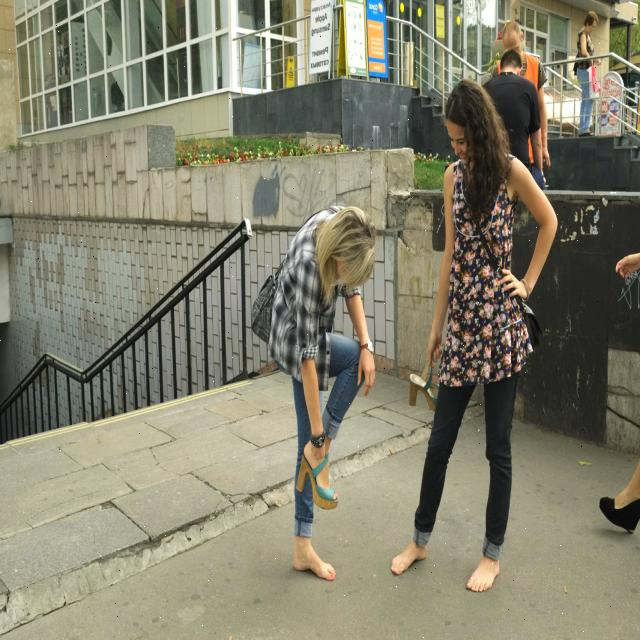No Safety Boots: (293, 552, 336, 580), (391, 542, 427, 574), (466, 558, 499, 592)
